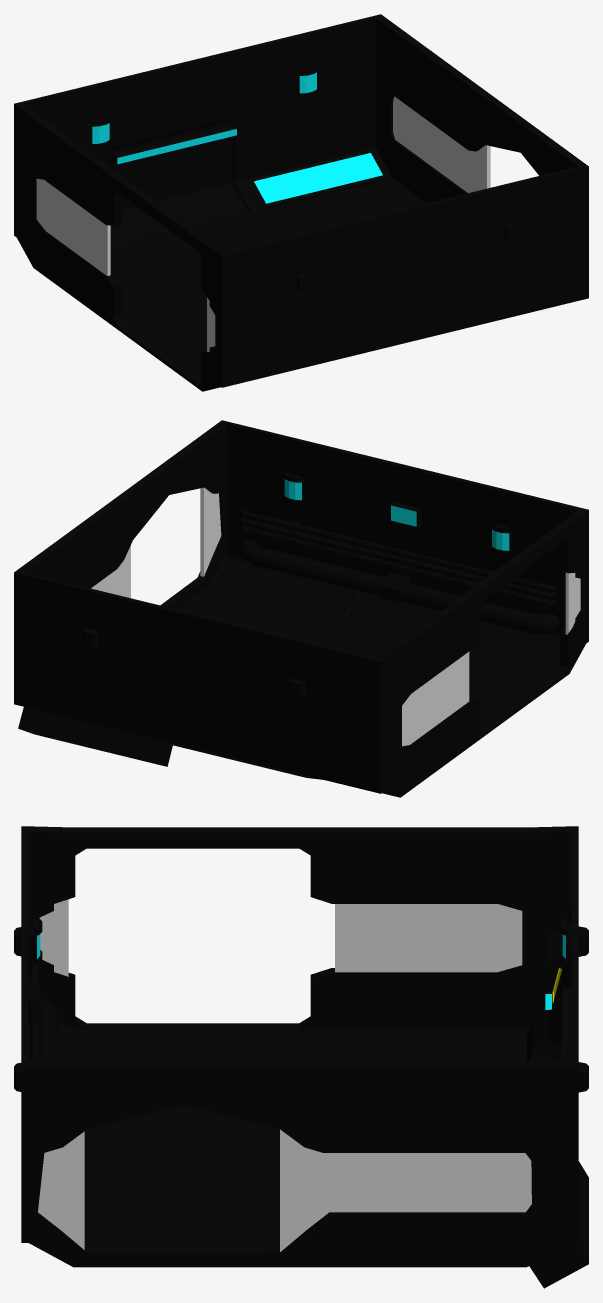
3 renders of one model, top to bottom at view 1: azimuth 30°, elevation 25°; view 2: azimuth 150°, elevation 25°; view 3: azimuth 270°, elevation 25°, orthographic. The views are drawn at different scales.
Visible parts, largest first — view 1: Cube, Cube.013, Cube.011, Cube.012; view 2: Cube, Cube.001, Cube.013, Cube.007, Cube.005, Cube.003, Cube.002, Cube.010, Cube.009; view 3: Cube, Cube.013, Cube.001, Cube.009, Cube.012.
Boxes of the visible parts, <box> form: Cube: <box>14,14,588,391</box>; Cube.013: <box>393,96,490,193</box>; Cube.011: <box>298,66,317,98</box>; Cube.012: <box>91,117,110,149</box>; Cube: <box>14,420,588,797</box>; Cube.001: <box>239,540,559,634</box>; Cube.013: <box>91,487,221,598</box>; Cube.007: <box>240,509,556,591</box>; Cube.005: <box>240,517,556,599</box>; Cube.003: <box>240,524,556,606</box>; Cube.002: <box>377,573,412,604</box>; Cube.010: <box>284,473,304,505</box>; Cube.009: <box>491,524,511,555</box>; Cube: <box>21,826,588,1288</box>; Cube.013: <box>38,1129,531,1251</box>; Cube.001: <box>38,997,57,1061</box>; Cube.009: <box>14,918,42,965</box>; Cube.012: <box>560,918,588,965</box>.
Bounding box in the file's own units: 4236 × 1872 × 4289.
